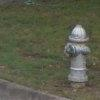Hydrant: (59, 15, 96, 91)
